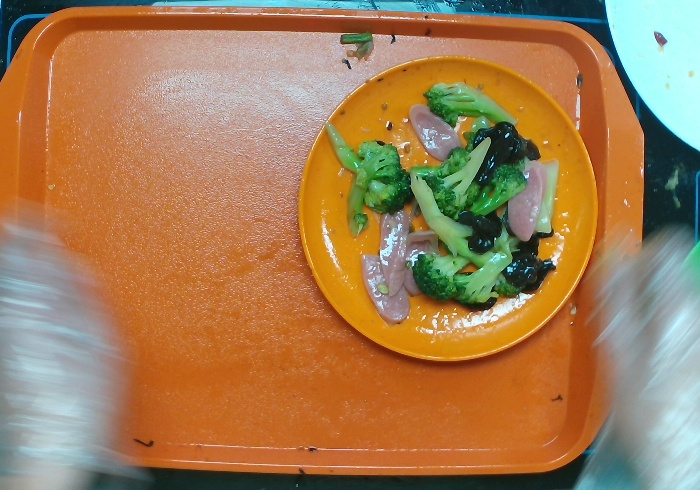HZYJPL-Ju_Huang_Yuan_Pan: (296, 55, 601, 363)
